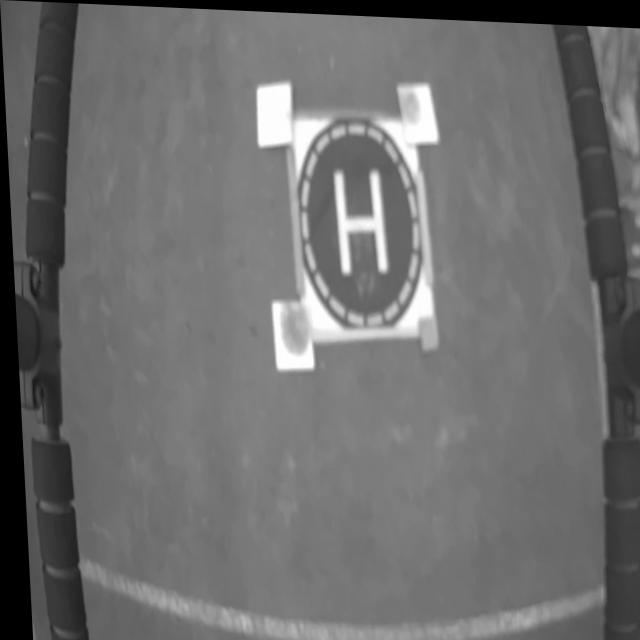Helipad: (331, 167, 387, 273)
